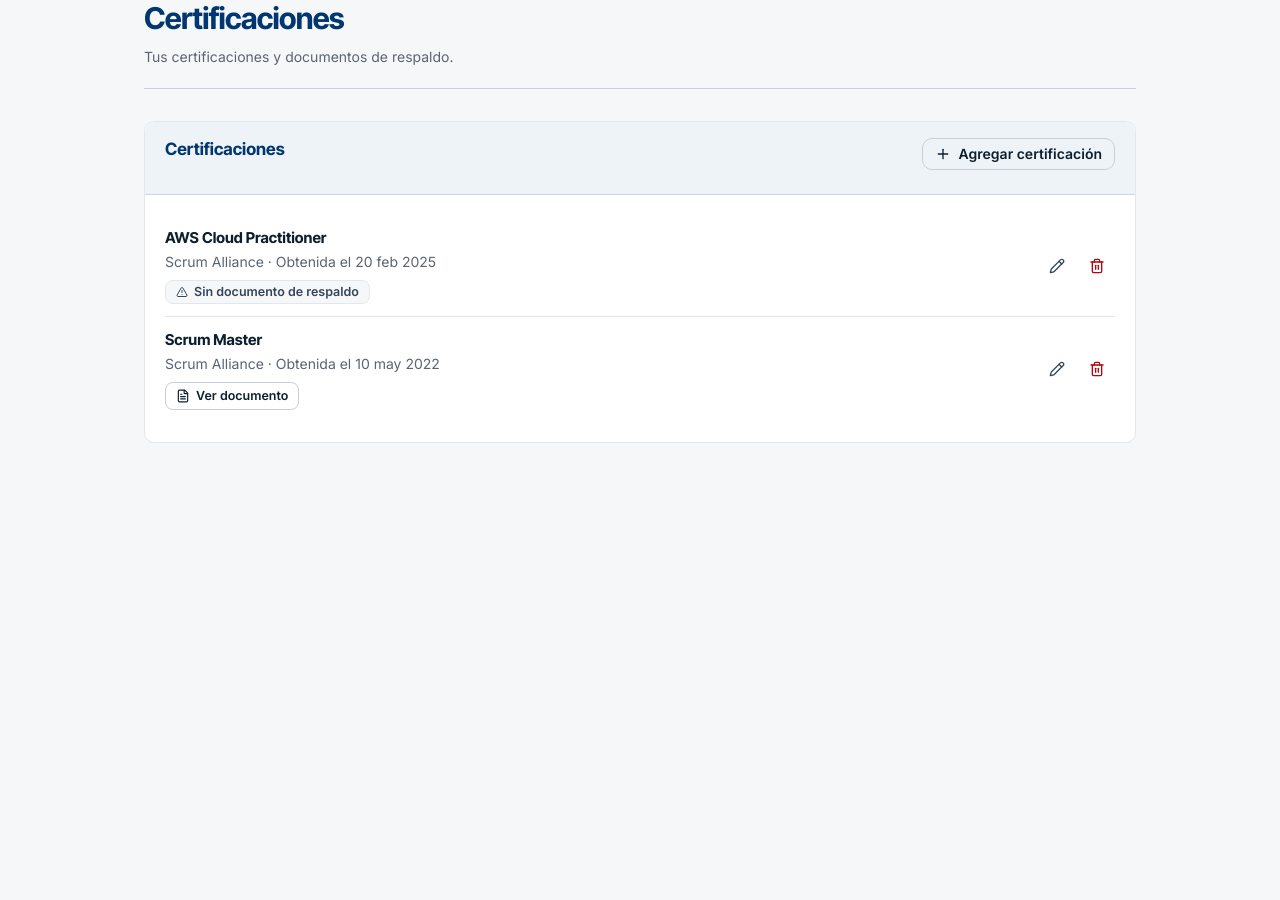
Test case: CertificationsView › keeps document selection inside the certification editor
The image size is (1280, 900).
Step 1. Click the button "Agregar certificación" → (1018, 154), box x1=922 y1=138 x2=1115 y2=170
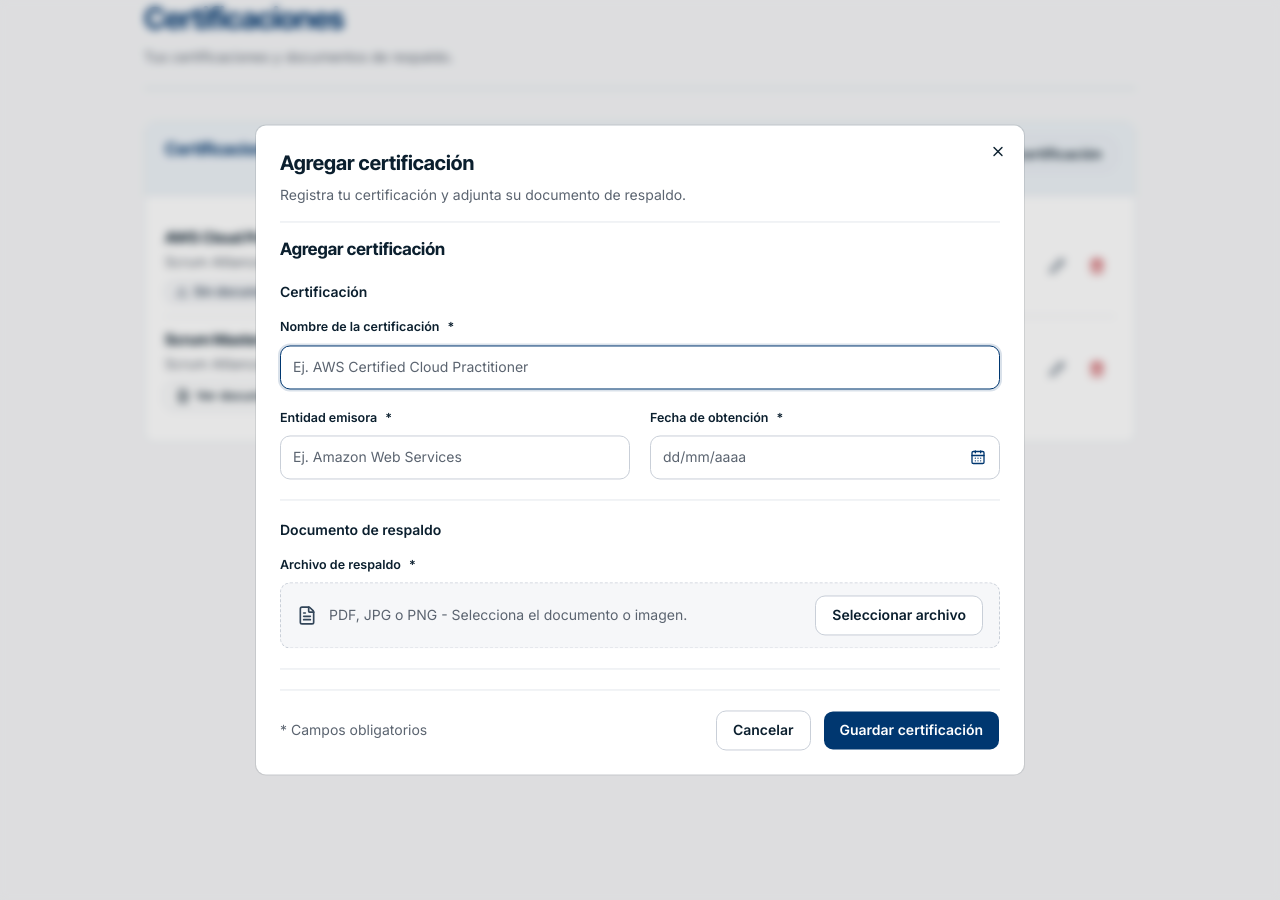
Now the form "Agregar certificación" is shown, box x1=280 y1=239 x2=1000 y2=751
Now the file field labelled "Archivo de respaldo *" is shown, box x1=280 y1=557 x2=416 y2=572
